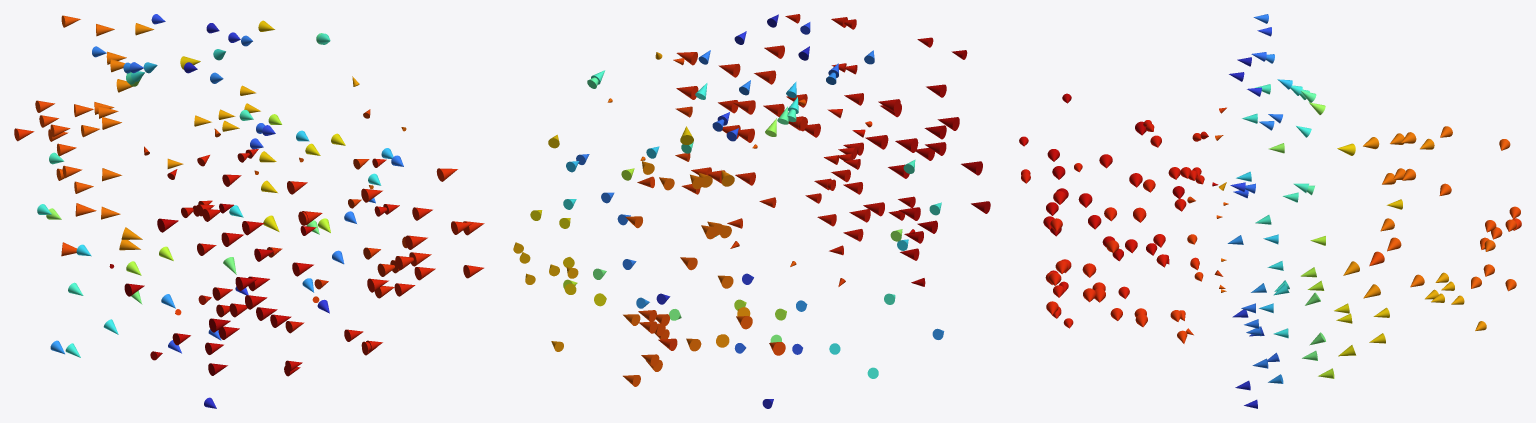
Rendered from LineasCorrienteH2-O2_mh2-5.58_V-0.7.glb.
The picture shows the model from 3 angles, left to right: view 1: azimuth 30°, elevation 25°; view 2: azimuth 150°, elevation 25°; view 3: azimuth 270°, elevation 25°; orthographic projection. The views are drawn at different scales.
Size of the model in its own units: 0.000926 by 0.00097 by 0.00122.
2 materials, 2 textured.
